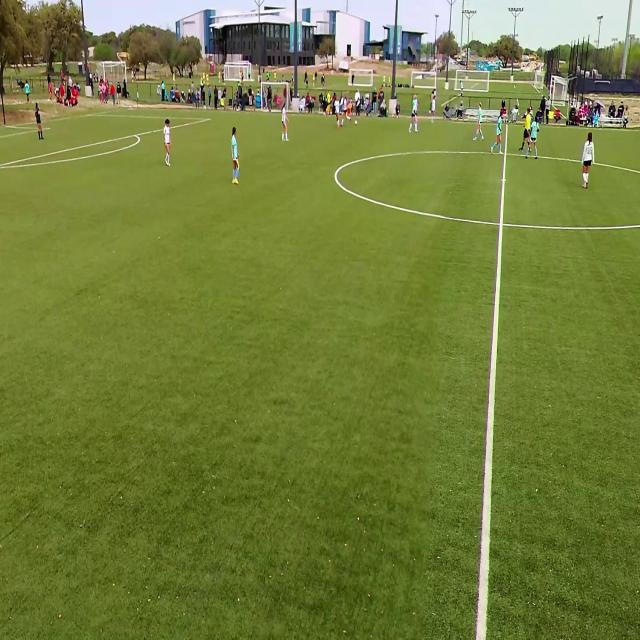ball: (354, 119, 358, 126)
team1: (230, 129, 242, 186), (474, 102, 485, 144), (530, 116, 540, 158), (493, 113, 503, 153), (412, 94, 418, 103)
team2: (582, 131, 595, 192), (164, 118, 173, 166), (280, 102, 289, 144), (342, 94, 352, 128), (334, 96, 341, 128), (430, 95, 437, 126), (413, 102, 419, 132)
